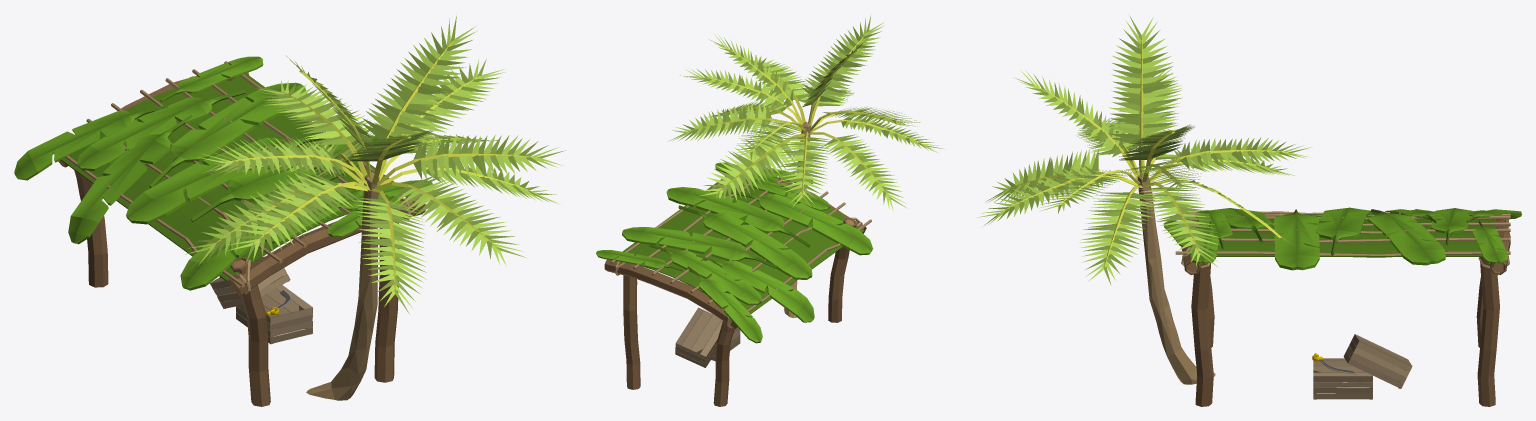
Rendered from Shop.fbx.
3 views of the same model, side by side, from view 1: azimuth 30°, elevation 25°; view 2: azimuth 150°, elevation 25°; view 3: azimuth 270°, elevation 25° (orthographic). The views are drawn at different scales.
Visible parts, largest first — view 1: Shop, Palme, Crate.001; view 2: Shop, Palme, Crate.001; view 3: Palme, Shop, Crate.001.
Part boxes in pixels (bbox=[...]): Shop: bbox=[14, 56, 432, 406]; Palme: bbox=[185, 14, 565, 400]; Crate.001: bbox=[210, 256, 312, 344]; Shop: bbox=[596, 162, 873, 406]; Palme: bbox=[668, 14, 943, 318]; Crate.001: bbox=[675, 307, 740, 367]; Palme: bbox=[977, 15, 1310, 384]; Shop: bbox=[1163, 207, 1521, 406]; Crate.001: bbox=[1312, 334, 1412, 399].
Bounding box in the file's own units: 3869 × 4206 × 6263.
